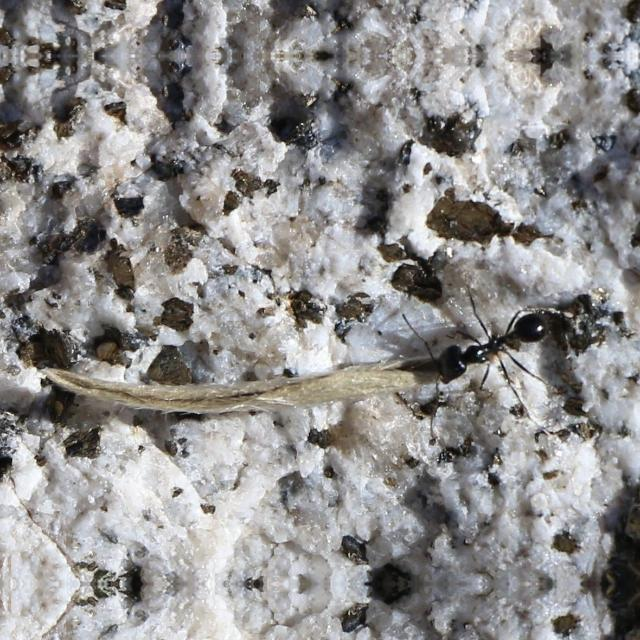Messor: (410, 300, 558, 400)
